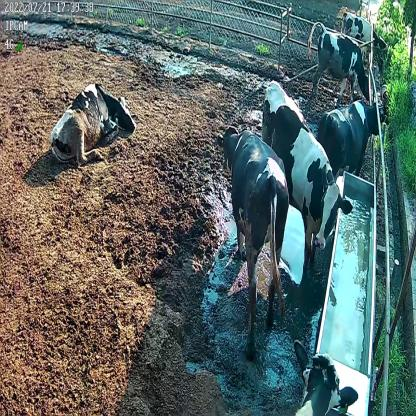cow: (212, 112, 289, 358), (260, 78, 353, 276), (50, 76, 136, 172), (306, 18, 373, 101), (318, 99, 386, 178), (341, 7, 389, 52)
